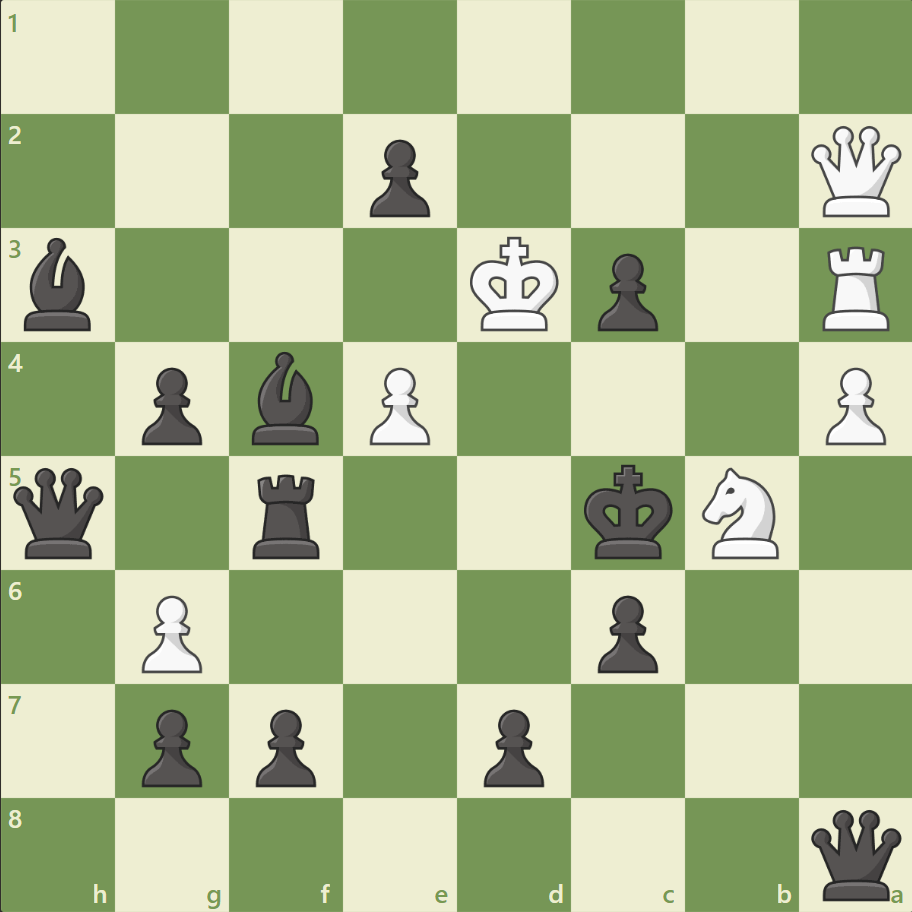K: (465, 231, 565, 339)
N: (692, 461, 789, 564)
P: (133, 586, 208, 677), (815, 359, 889, 450), (361, 359, 435, 450)
Q: (805, 122, 904, 222)
R: (814, 239, 897, 336)
b: (17, 233, 101, 336), (244, 347, 328, 449)
k: (579, 458, 679, 566)
p: (474, 700, 549, 791), (247, 700, 322, 791), (133, 700, 208, 791), (133, 359, 208, 450), (588, 586, 662, 677), (588, 246, 662, 337), (361, 132, 435, 223)
q: (805, 804, 904, 903), (10, 463, 109, 562)
r: (246, 466, 329, 563)
